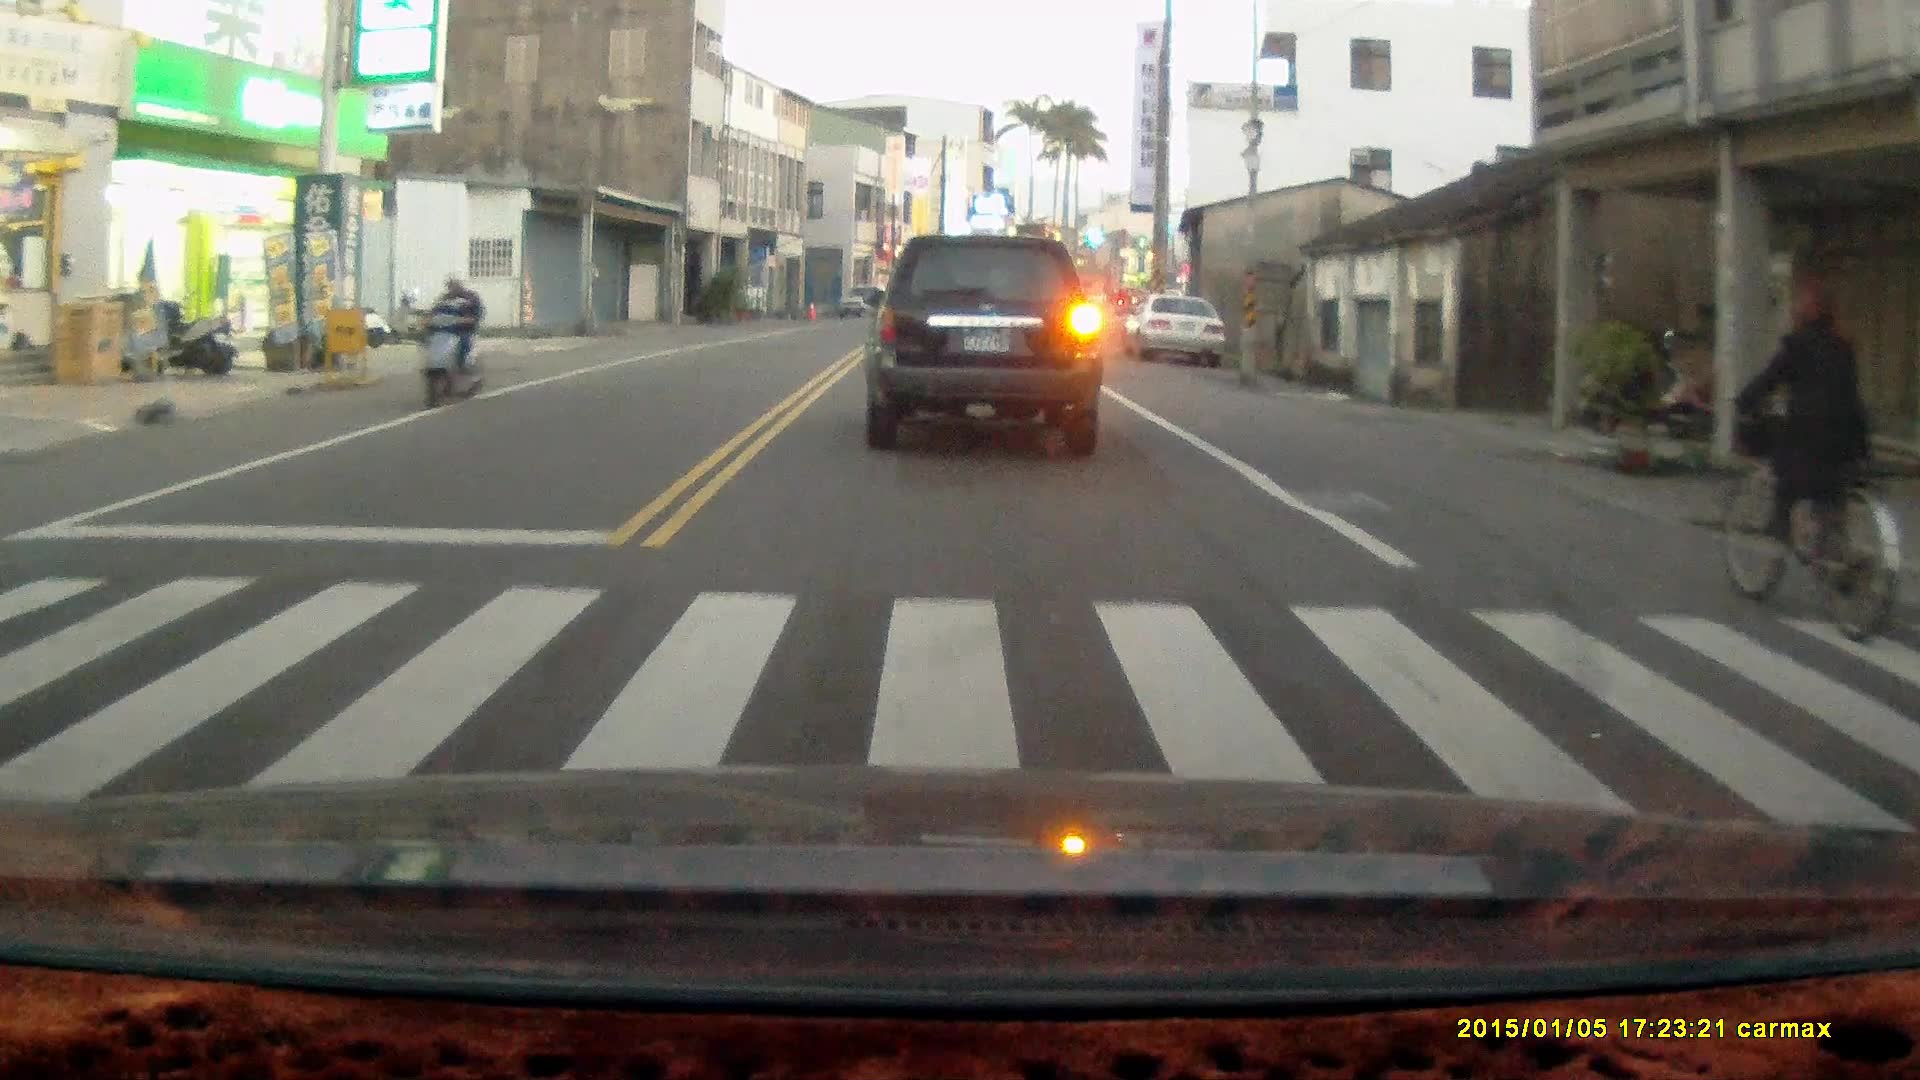rider: (1721, 285, 1899, 646), (408, 264, 488, 407)
vehicle: (862, 233, 1103, 458), (1125, 295, 1232, 365)
